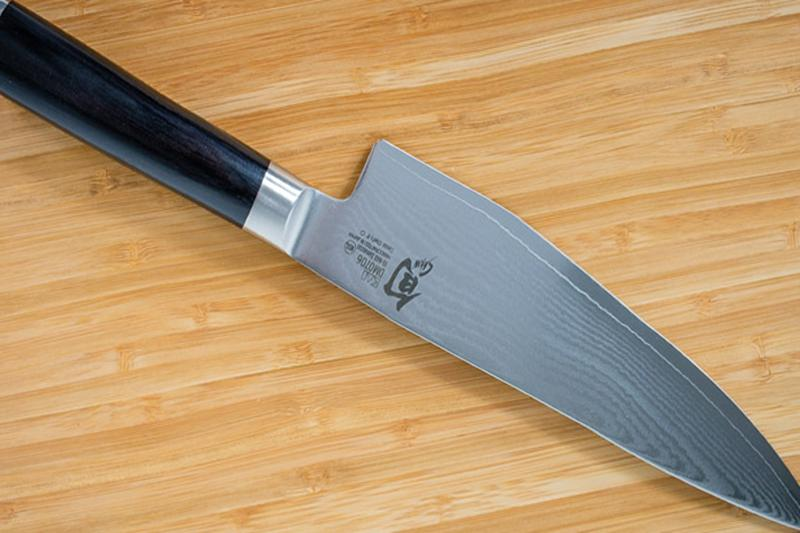knife: (1, 2, 800, 528)
